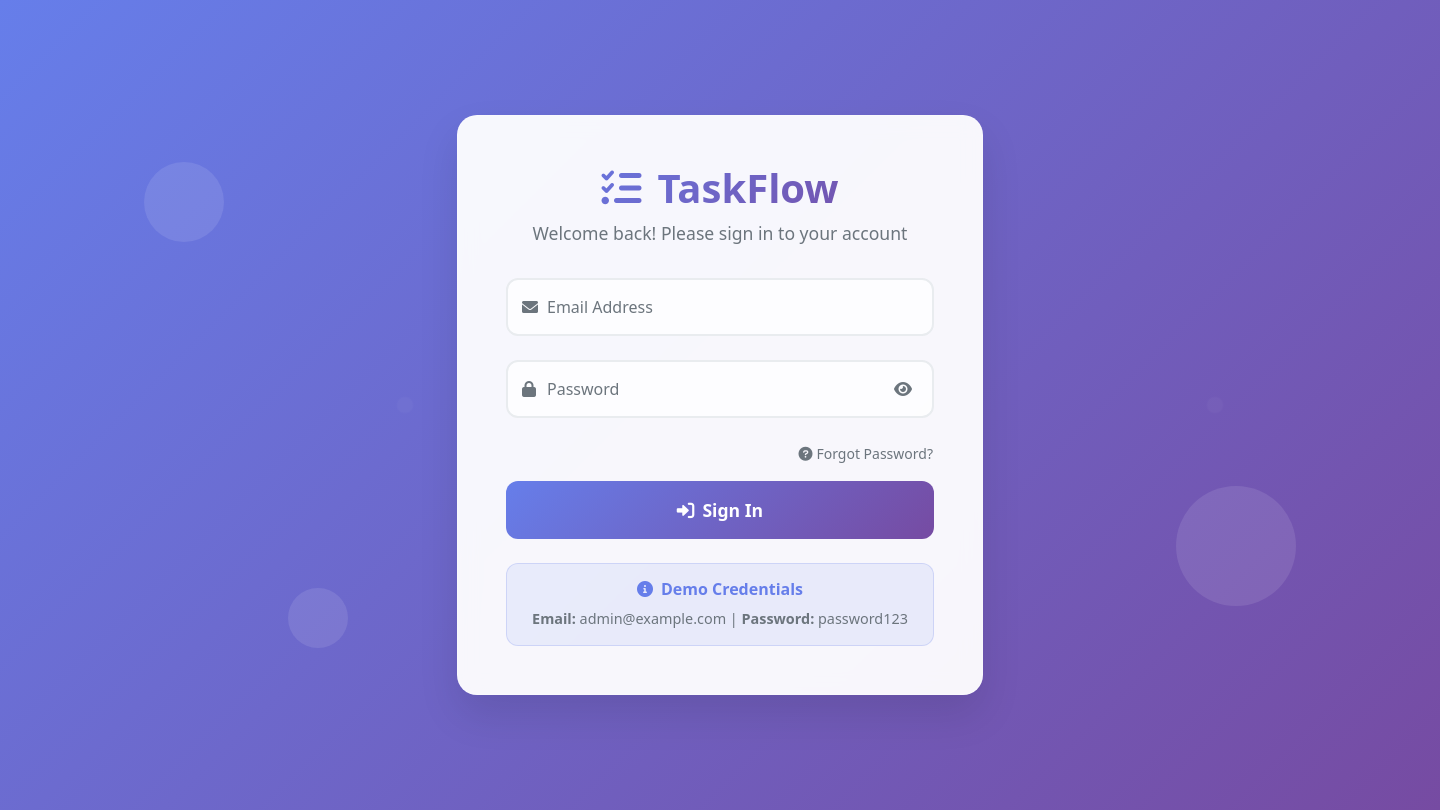
LoginForm › shows validation error for invalid email
The width and height of the screenshot is (1440, 810).
Type "invalid-email" into the field labelled "Email Address" at (720, 307), box [506,278,934,336]
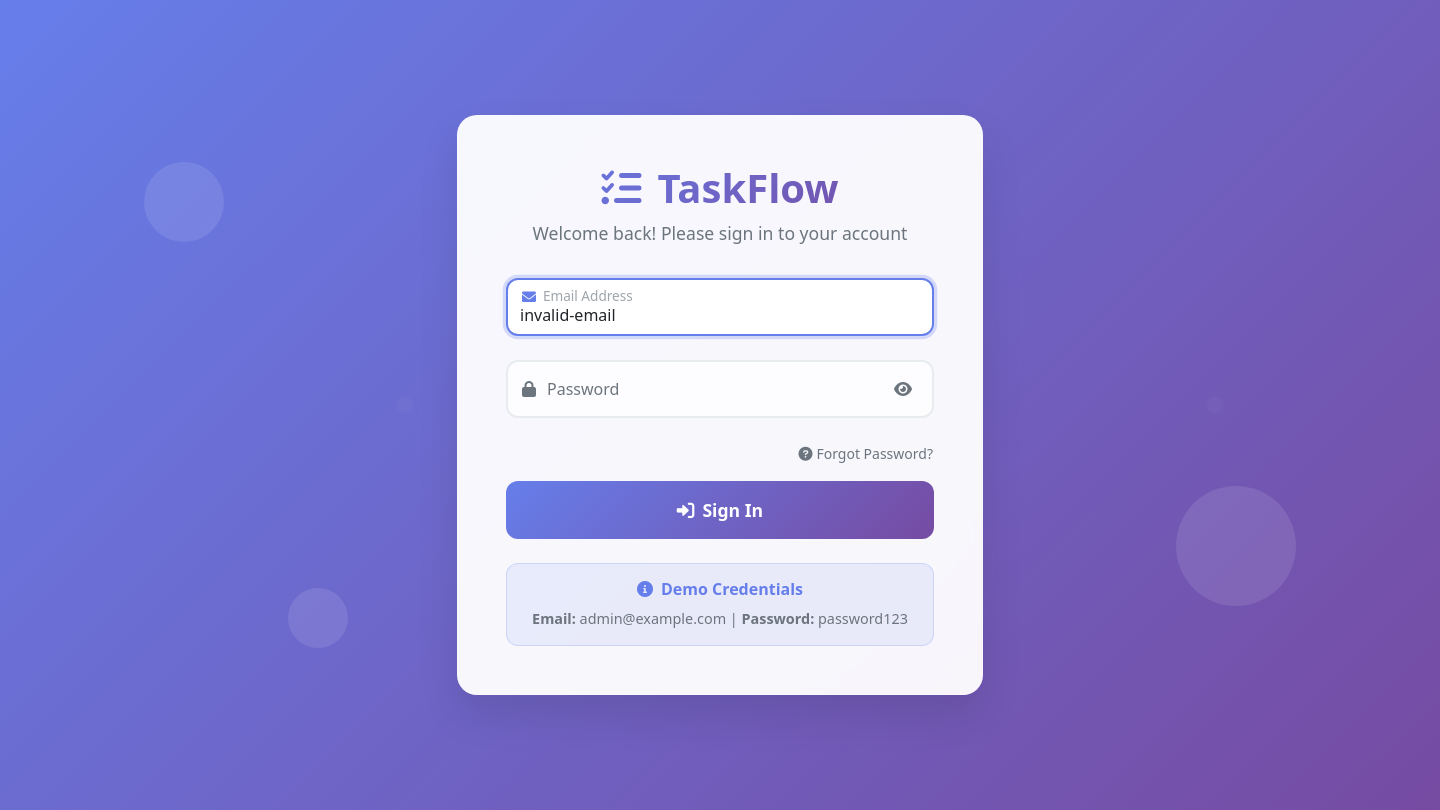
Type "password123" into the password field labelled "Password" at (720, 389), box [506,360,934,418]
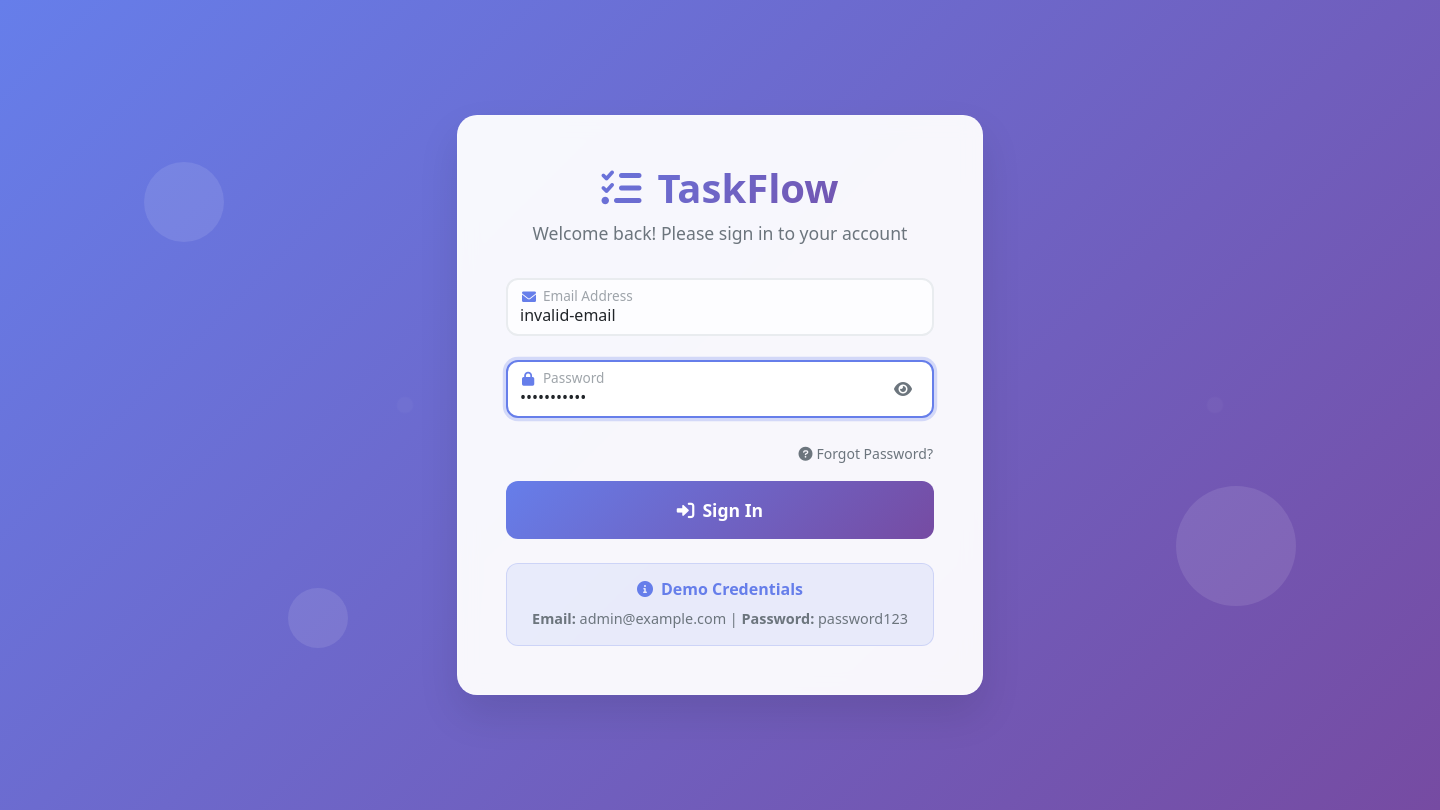
Click the button "Sign In" at (720, 510), box [506,481,934,540]
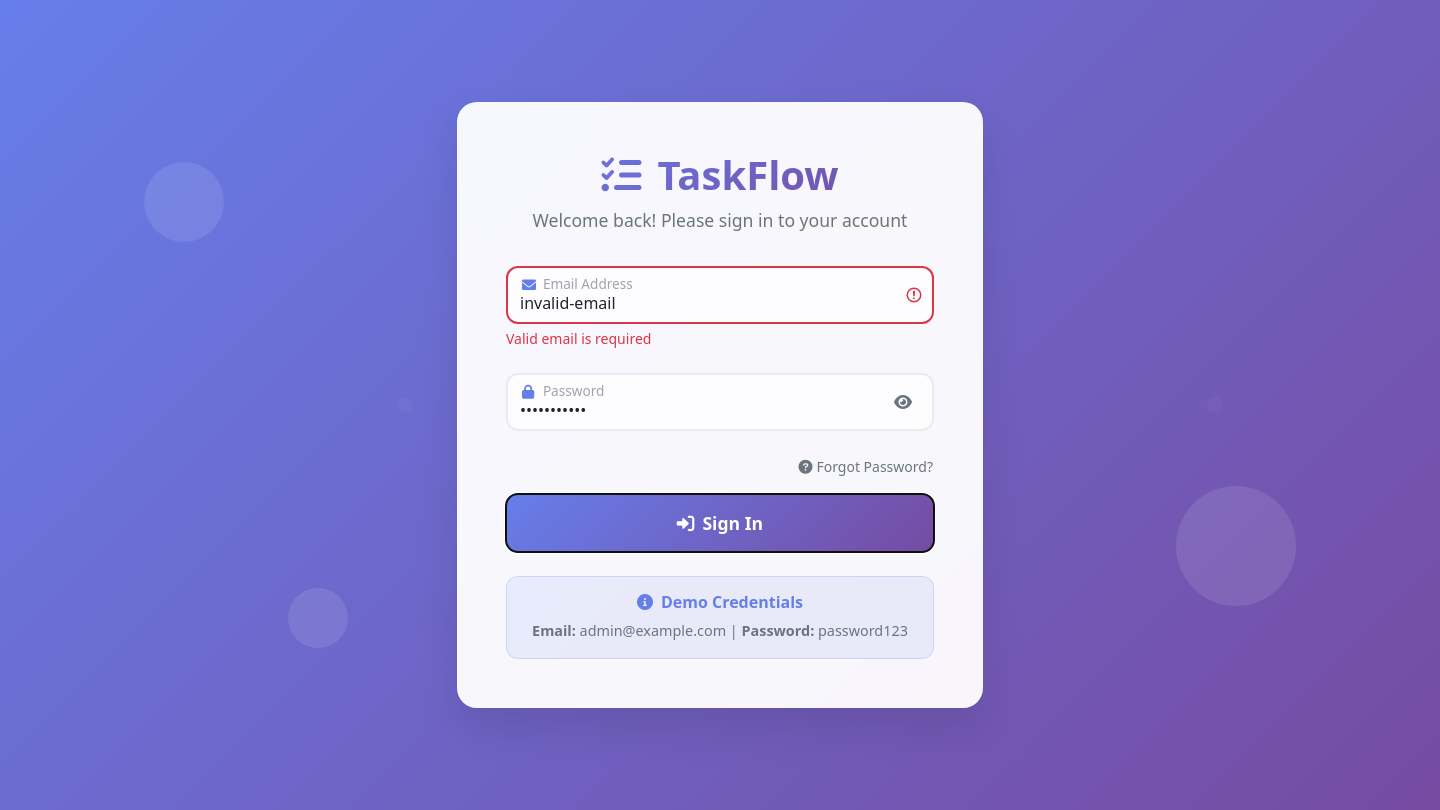
Now the text "Valid email is required" is shown, box [506,329,651,348]
